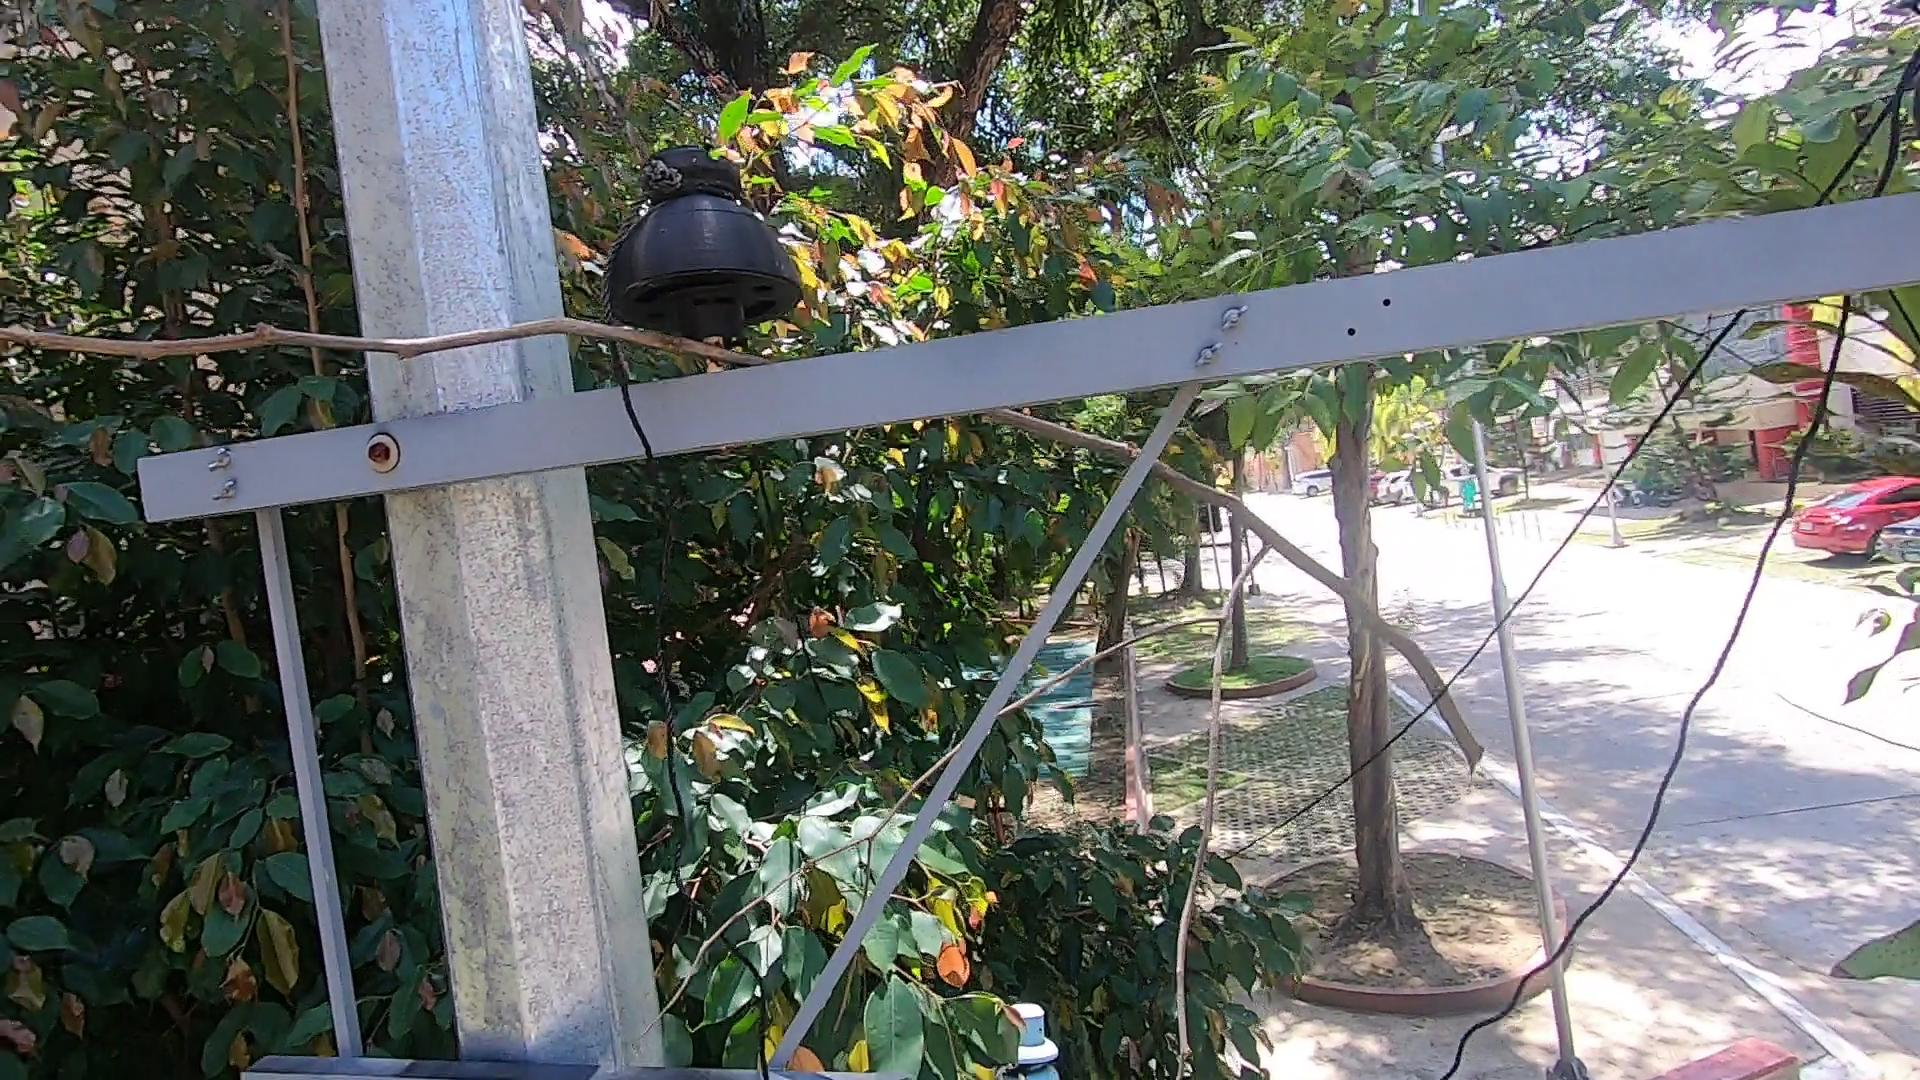branch with leaves: (855, 940, 1036, 1080)
tree branch: (4, 286, 1510, 782)
